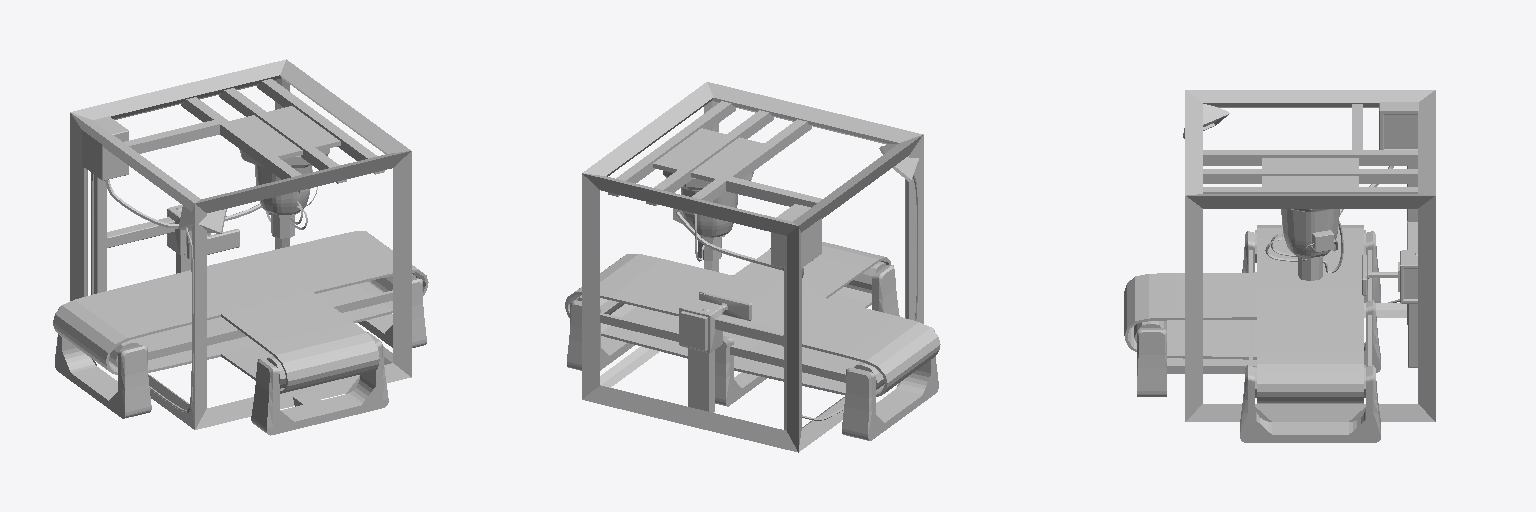
File: sorting_machine_2.obj
3 views of the same model, side by side, from view 1: azimuth 30°, elevation 25°; view 2: azimuth 150°, elevation 25°; view 3: azimuth 270°, elevation 25° (orthographic).
Visible parts, largest first — view 1: Cube, belt.002, legs.002, belt.003, Cube.007, Cube.004, Plane.002, Cube.002, Cube.003, Cube.001, bars.002, BézierCurve.003 (+5 smaller); view 2: Cube, belt.002, legs.002, Cube.007, belt.003, Cube.004, Plane.002, bars.002, Cube.002, Cube.003, Cube.001, Cube.005 (+2 smaller); view 3: Cube, belt.002, legs.002, belt.003, Cube.007, Cube.004, Cube.003, Plane.002, Cube.001, Cube.002, bars.002, Cylinder.003.
Part boxes in pixels (x1,y1,x2,y2): Cube: (70,59,411,429); belt.002: (53,231,428,374); legs.002: (55,278,426,435); belt.003: (221,292,379,393); Cube.007: (82,116,210,293); Cube.004: (124,97,309,192); Plane.002: (230,106,340,159); Cube.002: (257,79,384,174); Cube.003: (219,88,346,183); Cube.001: (239,148,329,214); bars.002: (148,290,392,359); BézierCurve.003: (91,173,193,412); Cube: (582,82,923,452); belt.002: (565,254,940,396); legs.002: (567,248,938,440); Cube.007: (679,204,821,430); belt.003: (733,242,890,307); Cube.004: (684,119,821,214); Plane.002: (653,128,763,181); bars.002: (600,313,845,382); Cube.002: (608,101,735,196); Cube.003: (646,110,773,205); Cube.001: (663,171,753,237); Cube.005: (699,291,751,320); Cube: (1185,90,1435,421); belt.002: (1257,225,1363,403); legs.002: (1137,231,1380,442); belt.003: (1124,272,1256,359); Cube.007: (1379,102,1418,367); Cube.004: (1203,104,1417,165); Cube.003: (1203,169,1417,183); Plane.002: (1262,158,1358,186); Cube.001: (1281,209,1339,257); Cube.002: (1203,187,1417,193); bars.002: (1249,250,1371,365); Cylinder.003: (1297,256,1323,280).
Bounding box in the file's own units: 2.98 × 2 × 2.49.